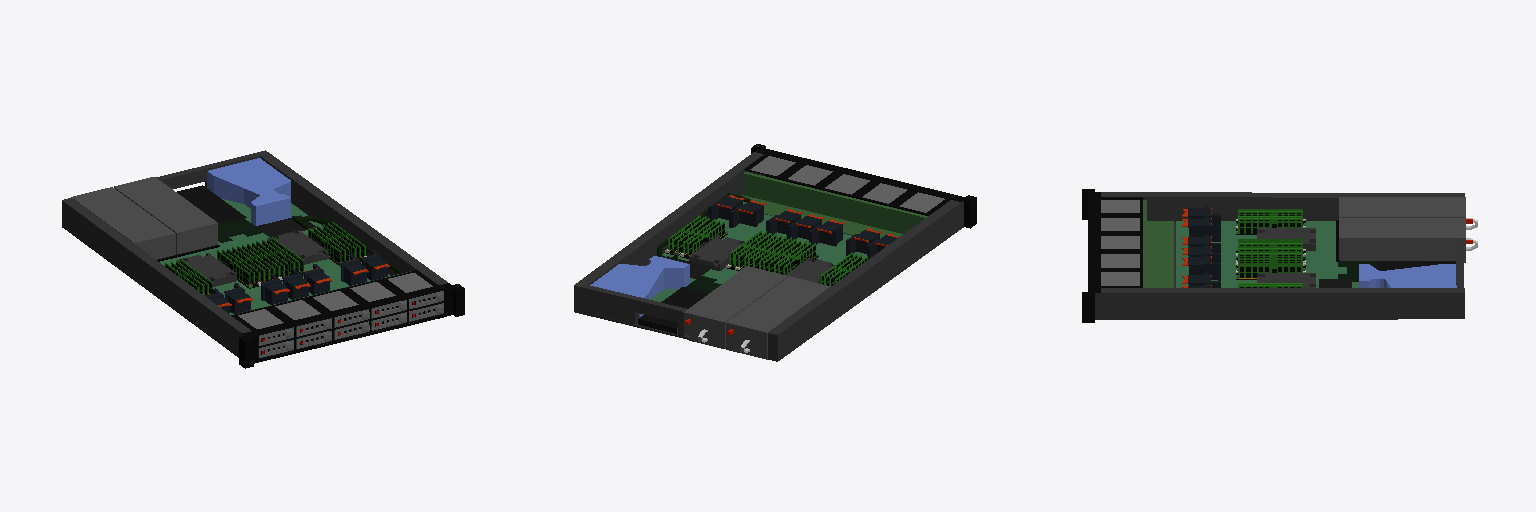
Rendered from server.obj.
The picture shows the model from 3 angles: view 1: azimuth 30°, elevation 25°; view 2: azimuth 150°, elevation 25°; view 3: azimuth 270°, elevation 25°; orthographic projection.
Visible parts, largest first — view 1: Chassis, Riser, PSU.001, PSU.000, Mainboard, CPU_Socket, Plane, Plane.002, Fan.004, Fan.003, Plane.001, Fan.001 (+3 smaller); view 2: Chassis, Backplane, PSU.001, PSU.000, Riser, Mainboard, CPU_Socket, Plane, Fan.003, Fan.004, Fan.005, Fan.001 (+2 smaller); view 3: Chassis, PSU.001, Mainboard, PSU.000, Backplane, Riser, CPU_Socket, RAM.019, Fan.001, Fan.006, RAM.018.
Part boxes in pixels (left/top/right/bottom): Chassis: left=62, top=150, right=464, bottom=368; Riser: left=207, top=158, right=290, bottom=225; PSU.001: left=114, top=177, right=217, bottom=254; PSU.000: left=71, top=187, right=175, bottom=259; Mainboard: left=157, top=199, right=389, bottom=314; CPU_Socket: left=177, top=230, right=328, bottom=286; Plane: left=177, top=185, right=246, bottom=223; Plane.002: left=218, top=218, right=262, bottom=242; Fan.004: left=261, top=274, right=289, bottom=304; Fan.003: left=340, top=255, right=368, bottom=285; Plane.001: left=255, top=215, right=316, bottom=237; Fan.001: left=224, top=283, right=252, bottom=313; Chassis: left=574, top=144, right=976, bottom=361; Backplane: left=742, top=172, right=927, bottom=238; PSU.001: left=684, top=266, right=787, bottom=348; PSU.000: left=726, top=276, right=830, bottom=359; Riser: left=590, top=256, right=689, bottom=317; Mainboard: left=650, top=214, right=866, bottom=301; CPU_Socket: left=689, top=235, right=833, bottom=283; Plane: left=638, top=287, right=708, bottom=333; Fan.003: left=729, top=200, right=765, bottom=227; Fan.004: left=809, top=219, right=844, bottom=246; Fan.005: left=787, top=214, right=823, bottom=240; Fan.001: left=846, top=228, right=881, bottom=255; Chassis: left=1082, top=189, right=1464, bottom=322; PSU.001: left=1339, top=218, right=1477, bottom=262; Mainboard: left=1176, top=220, right=1358, bottom=287; PSU.000: left=1339, top=197, right=1477, bottom=229; Backplane: left=1143, top=200, right=1173, bottom=287; Riser: left=1359, top=264, right=1456, bottom=287; CPU_Socket: left=1257, top=228, right=1315, bottom=287; RAM.019: left=1238, top=265, right=1302, bottom=278; Fan.001: left=1182, top=217, right=1220, bottom=241; Fan.006: left=1182, top=255, right=1220, bottom=280; RAM.018: left=1238, top=221, right=1302, bottom=233.
Size of the model in its own units: 28.11 by 3.34 by 43.81.